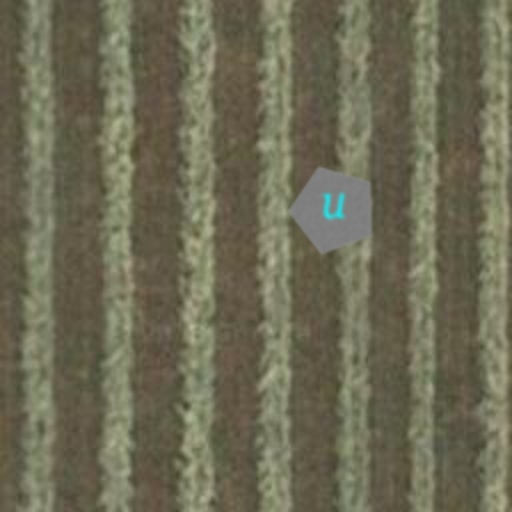pentagon: (286, 162, 382, 258)
